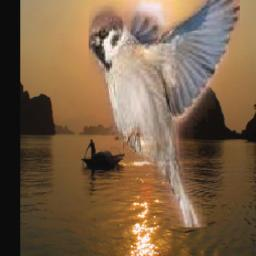Sparrow: (89, 0, 240, 227)
